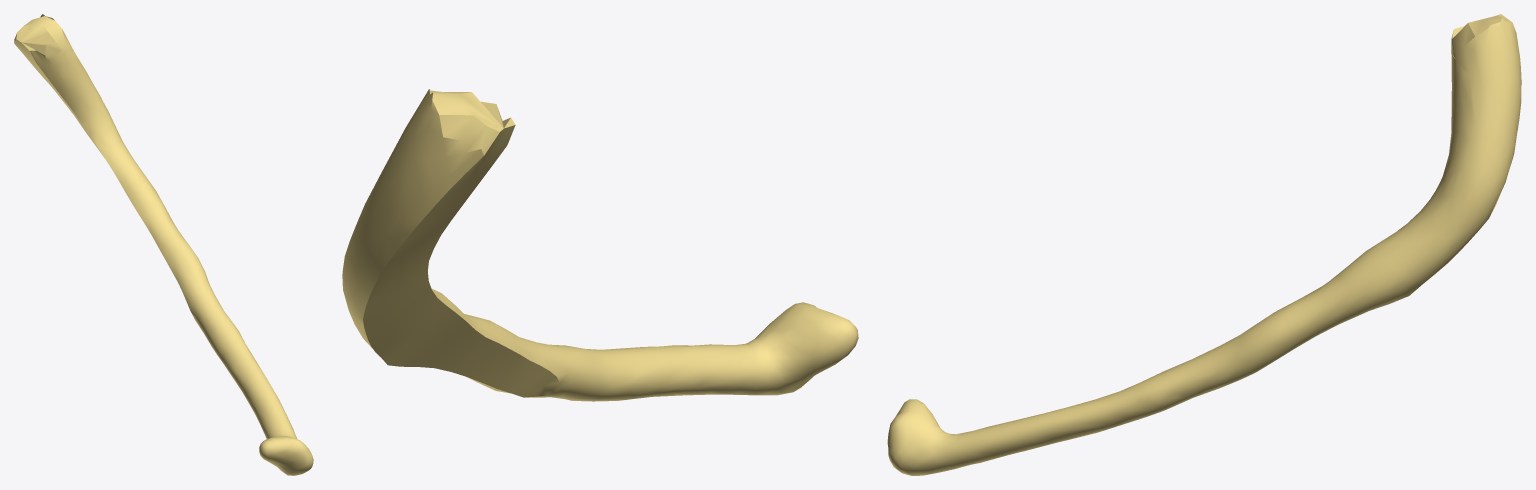
Rendered from fma72855_mm2850.glb.
3 renders of one model, left to right at view 1: azimuth 30°, elevation 25°; view 2: azimuth 150°, elevation 25°; view 3: azimuth 270°, elevation 25°, orthographic. The views are drawn at different scales.
Visible parts, largest first — view 1: FMA72855_MM2850; view 2: FMA72855_MM2850; view 3: FMA72855_MM2850.
Boxes of the visible parts, x1,y1,x2,y2 form: FMA72855_MM2850: (14,14,313,475); FMA72855_MM2850: (342,89,858,401); FMA72855_MM2850: (887,14,1521,475).
Size of the model in its own units: 0.00847 by 0.0249 by 0.0331.
